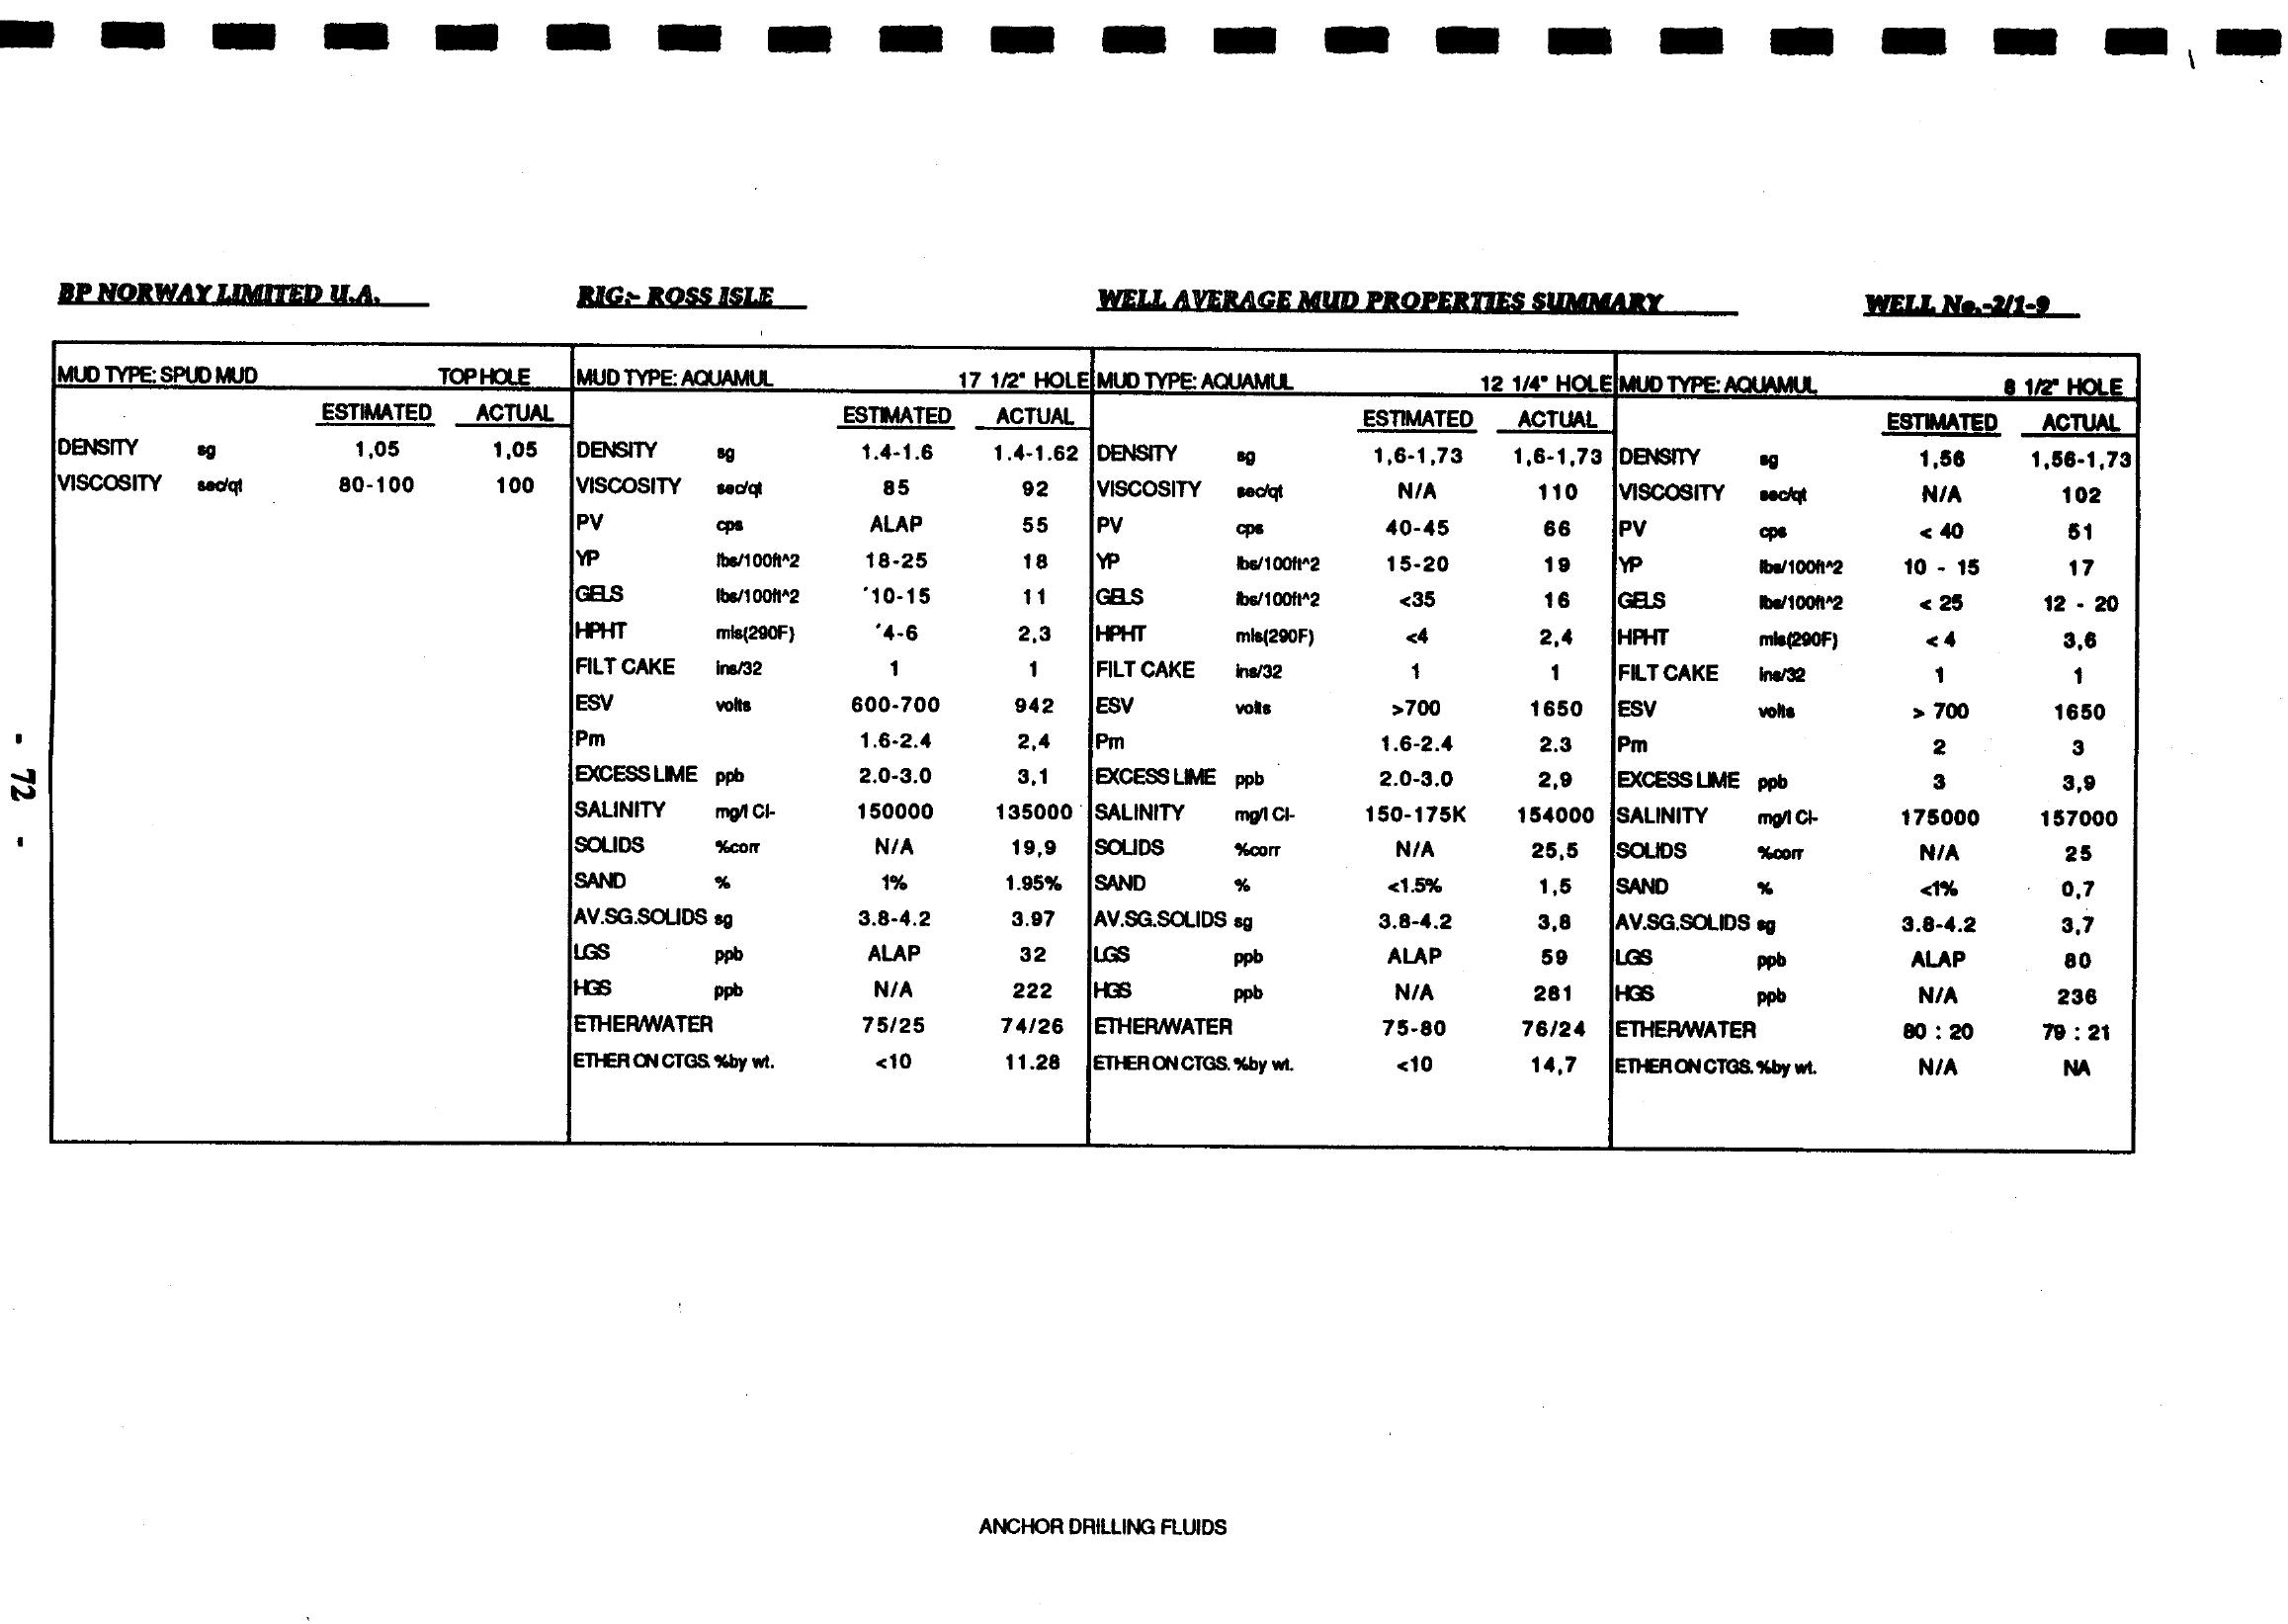table: (25, 265, 2186, 1199)
